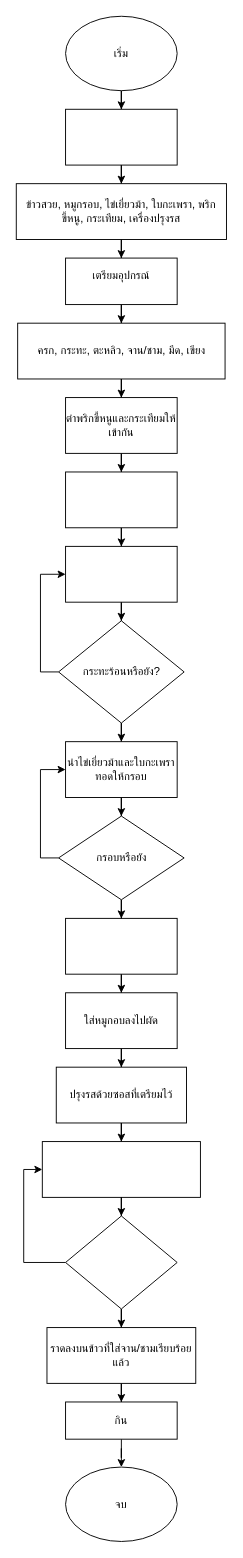
This 243x1558 diagram has some shape labels left out. The box of each missing label's shape, as (x1, y1, x2, y2) in pixels:
ตั้งกระทะใส่น้ำมัน: (65, 471, 177, 528)
นำไข่เยี่ยวม้าและใบกะเพราทอดแล้วลงไปผัดให้เข้ากัน: (41, 1141, 200, 1197)
ผัดจนเข้ากันหรือยัง: (65, 1215, 177, 1309)
รอกระทะร้อน: (65, 545, 177, 602)
เตรียมวัตถุดิบต่างๆ: (65, 108, 177, 165)
เมื่อทอดเสร็จ นำพริกกระเทียมที่โขลกไว้ลงผัดให้หอม: (65, 917, 177, 974)
